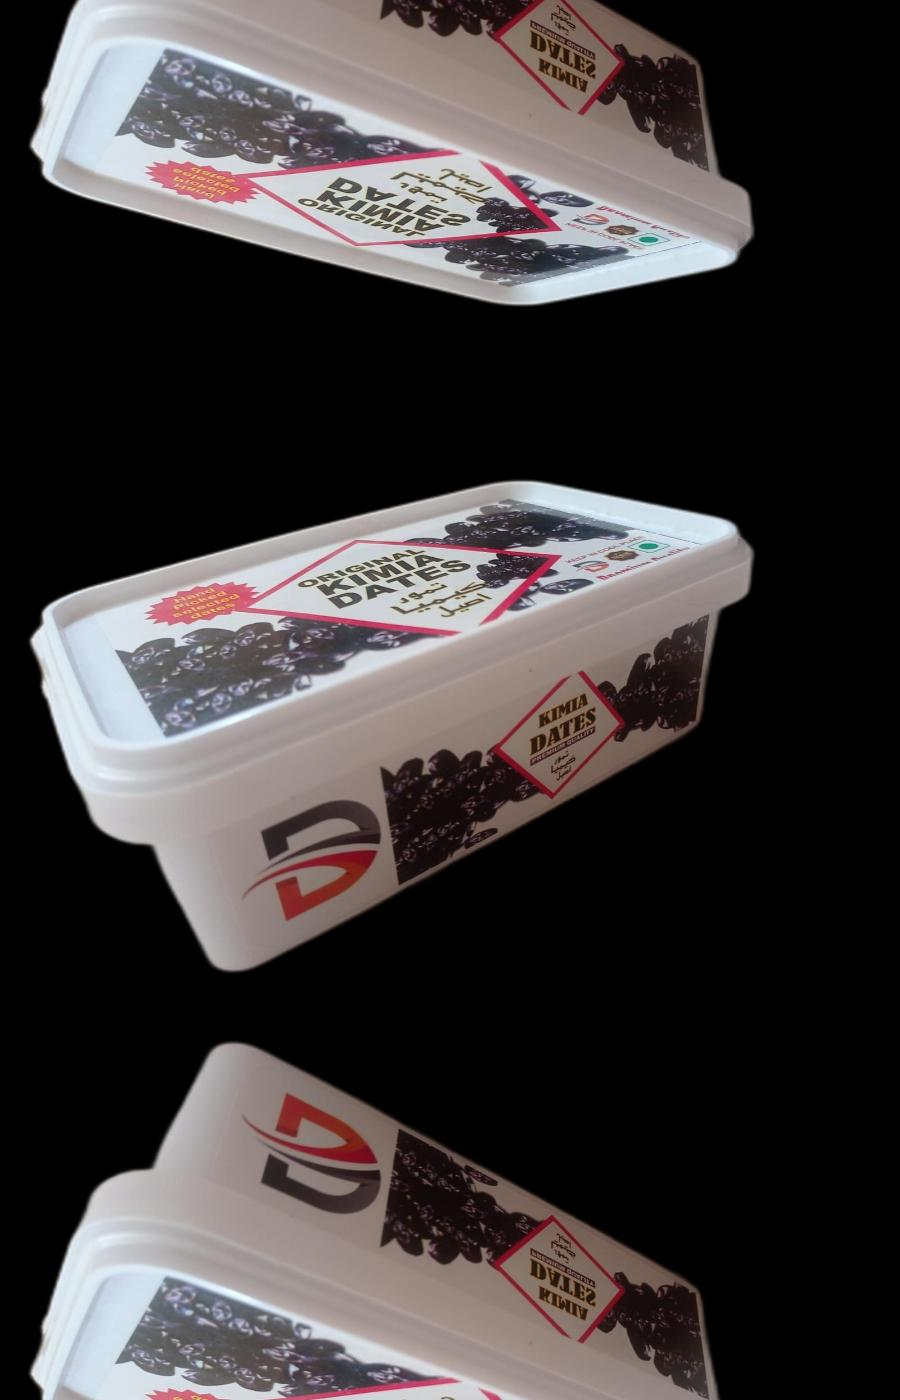Kimia Dates: (31, 472, 755, 971), (31, 1041, 755, 1400), (31, 0, 755, 312)
